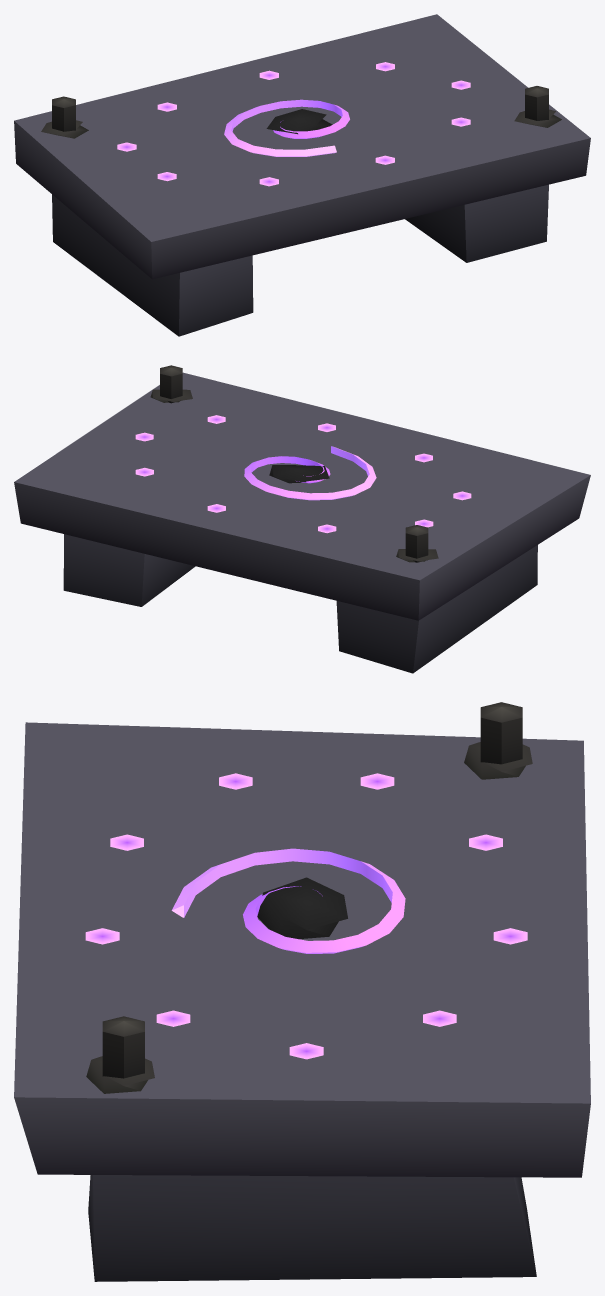
The model's file is altar_slab.glb.
The picture shows the model from 3 angles, top to bottom: view 1: azimuth 30°, elevation 25°; view 2: azimuth 150°, elevation 25°; view 3: azimuth 270°, elevation 25°; orthographic projection. The views are drawn at different scales.
Visible parts, largest first — view 1: altar_slab_trim, altar_slab_glow; view 2: altar_slab_trim, altar_slab_glow; view 3: altar_slab_trim, altar_slab_glow.
Part boxes in pixels (<box>): altar_slab_trim: <box>14,14,590,336</box>; altar_slab_glow: <box>117,62,470,186</box>; altar_slab_trim: <box>14,365,590,673</box>; altar_slab_glow: <box>135,415,471,533</box>; altar_slab_trim: <box>14,702,590,1281</box>; altar_slab_glow: <box>85,773,527,1059</box>.
Bounding box in the file's own units: 0.7444 × 0.235 × 0.4735.
